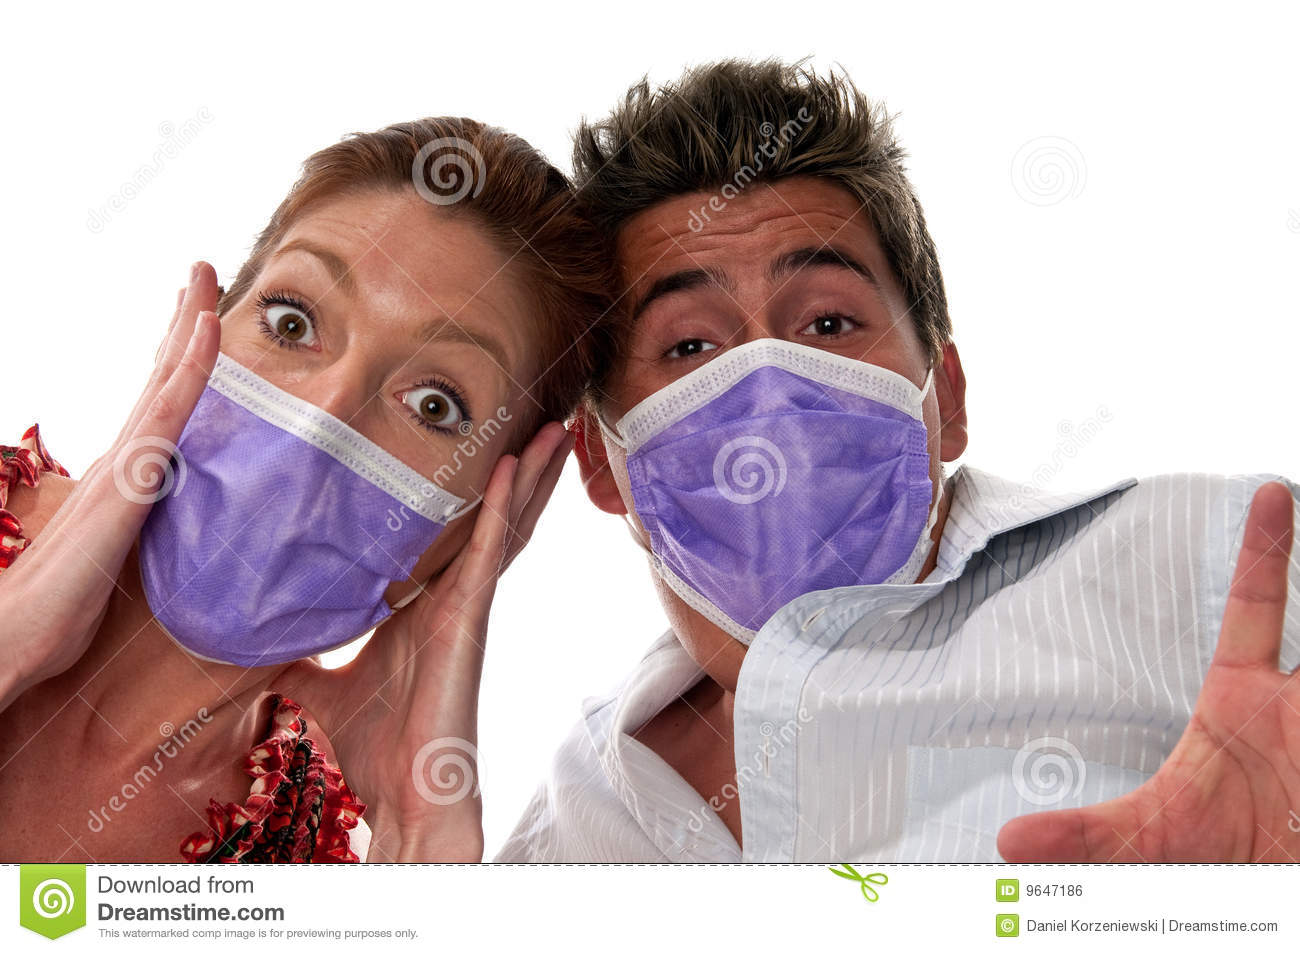mask: (607, 365, 976, 644), (156, 369, 431, 671)
